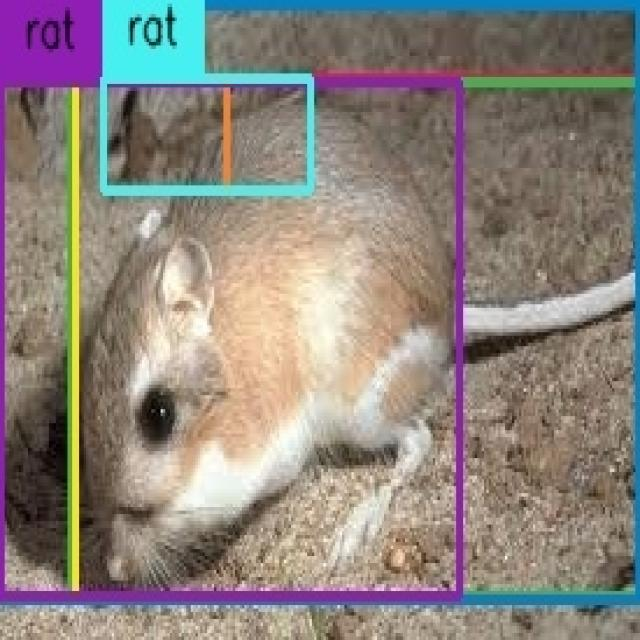rat: (1, 5, 639, 600), (2, 80, 638, 598), (71, 82, 639, 596), (1, 82, 460, 596), (74, 84, 458, 594), (104, 80, 310, 192), (104, 84, 226, 192)
